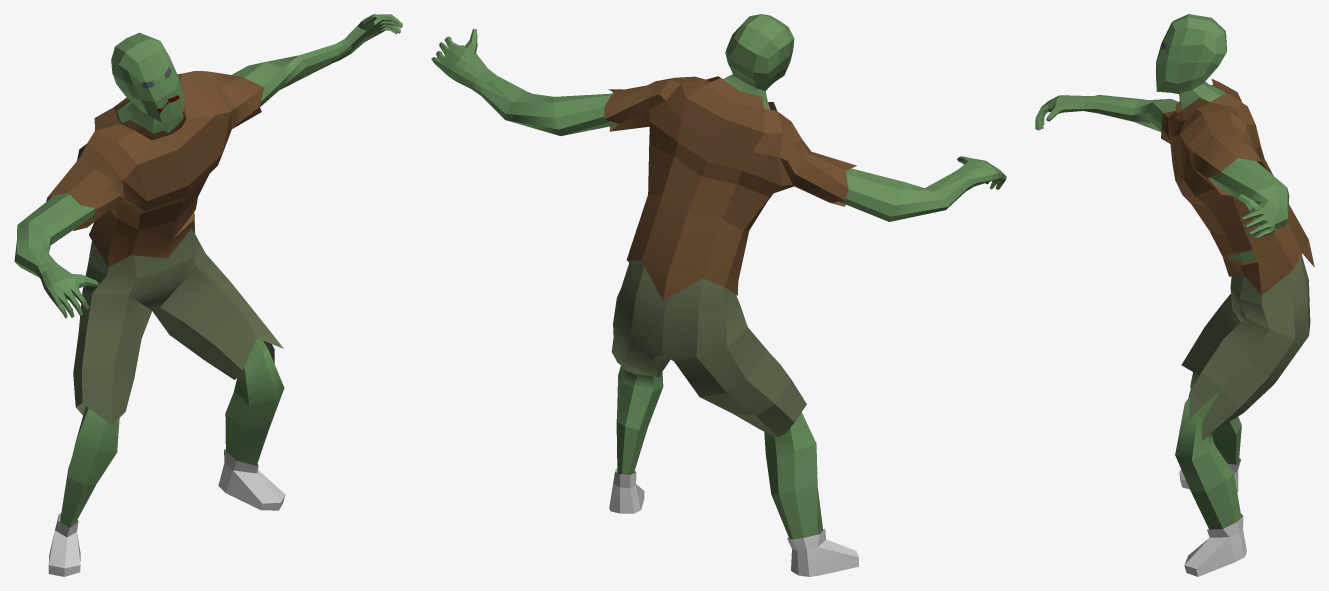
File: ZombieAttack(97).obj
The picture shows the model from 3 angles, left to right: view 1: azimuth 30°, elevation 25°; view 2: azimuth 150°, elevation 25°; view 3: azimuth 270°, elevation 25°; orthographic projection. The views are drawn at different scales.
Visible parts, largest first — view 1: Object001; view 2: Object001; view 3: Object001.
Boxes of the visible parts, x1,y1,x2,y2 form: Object001: [14, 14, 402, 576]; Object001: [431, 14, 1006, 576]; Object001: [1035, 14, 1314, 576].
Size of the model in its own units: 50.55 by 55.19 by 27.7.
